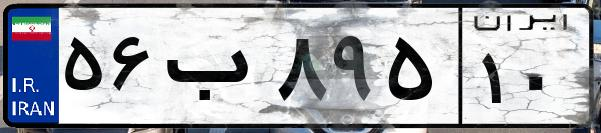0: (525, 38, 570, 115)
1: (475, 38, 525, 113)
5: (385, 28, 445, 110), (57, 26, 110, 100)
6: (110, 28, 158, 98)
8: (270, 28, 330, 110)
9: (330, 28, 385, 110)
ب: (158, 20, 270, 120)
